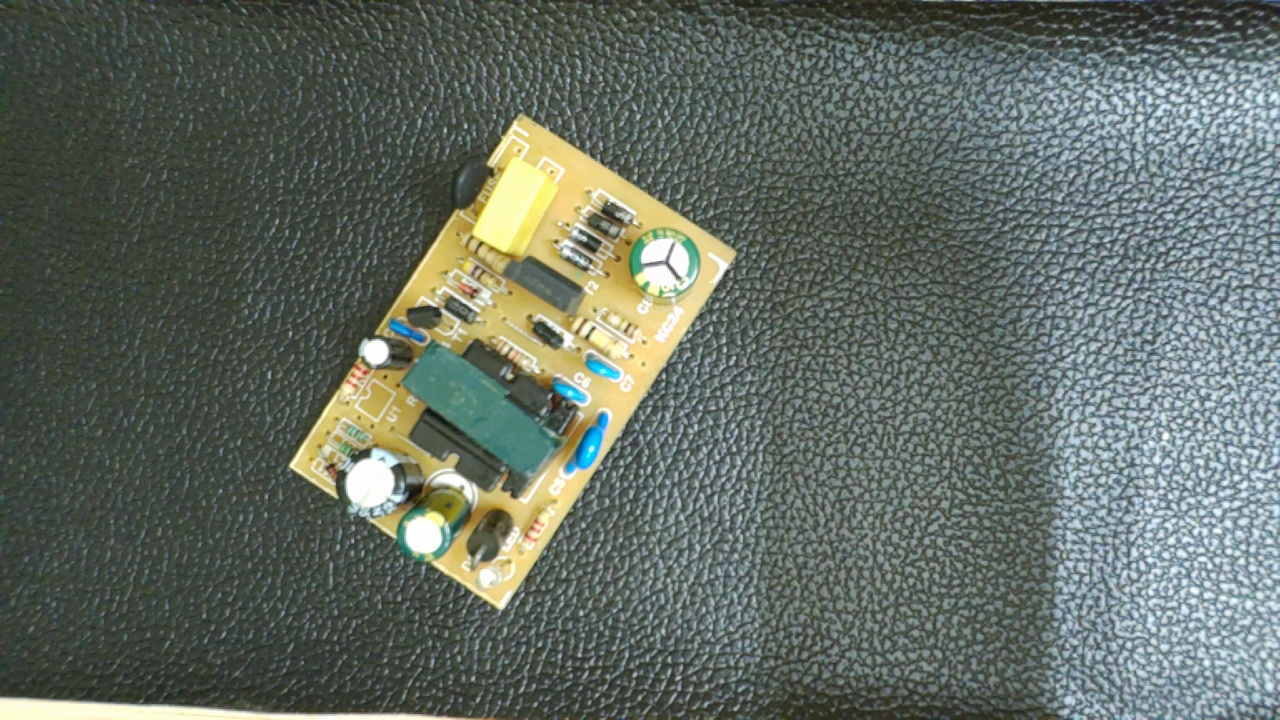fuse: (450, 147, 506, 227)
hv_capacitor: (626, 222, 705, 305)
mov: (558, 404, 612, 483)
